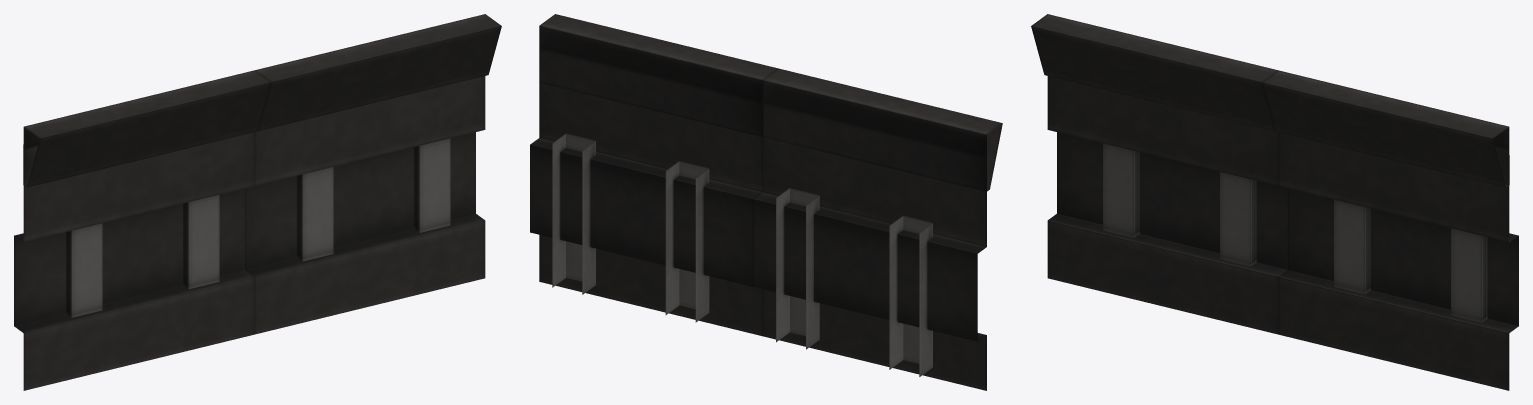
File: B11_RoofMiddle2x.FBX
3 renders of one model, left to right at view 1: azimuth 30°, elevation 25°; view 2: azimuth 150°, elevation 25°; view 3: azimuth 330°, elevation 25°, orthographic. The views are drawn at different scales.
Visible parts, largest first — view 1: B11_RoofMiddle2x; view 2: B11_RoofMiddle2x; view 3: B11_RoofMiddle2x.
Part boxes in pixels (left/top/right/bottom): B11_RoofMiddle2x: left=14, top=14, right=501, bottom=390; B11_RoofMiddle2x: left=530, top=14, right=1002, bottom=390; B11_RoofMiddle2x: left=1031, top=14, right=1518, bottom=390.
Bounding box in the file's own units: 8 × 4.37 × 1.03.
